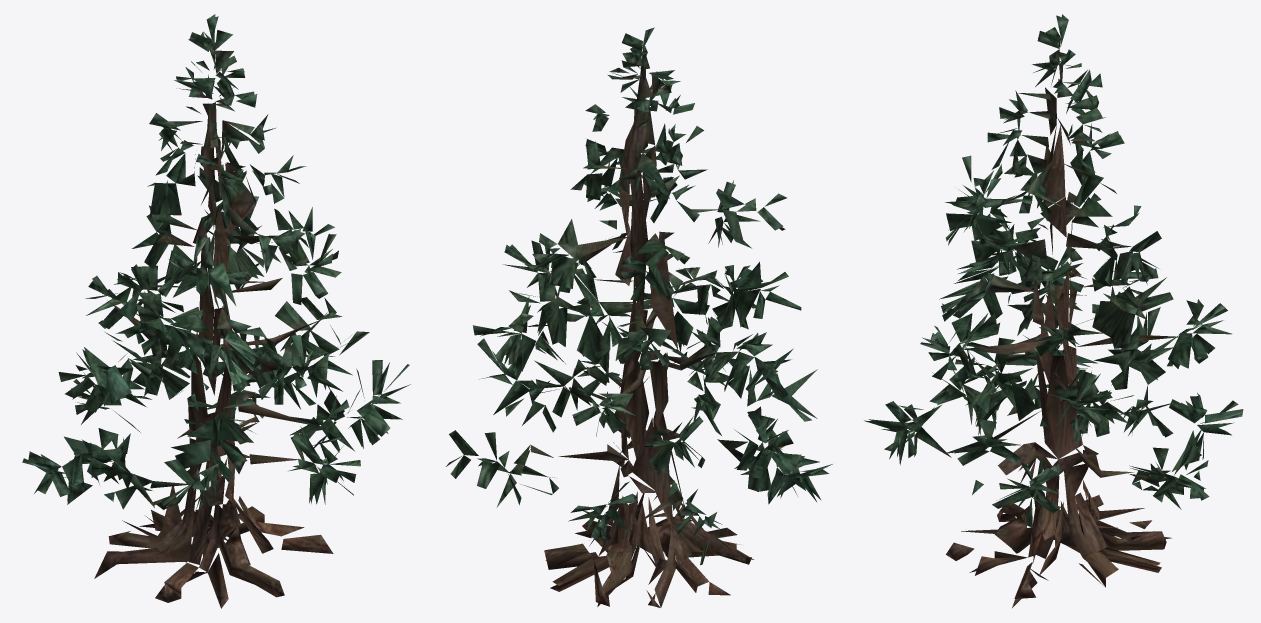
The model's file is tripo-conifera153-lod.glb.
3 renders of one model, left to right at view 1: azimuth 30°, elevation 25°; view 2: azimuth 150°, elevation 25°; view 3: azimuth 270°, elevation 25°, orthographic.
Visible parts, largest first — view 1: tripo_node_503727a7-5fc5-4832-b367-66964798e19f; view 2: tripo_node_503727a7-5fc5-4832-b367-66964798e19f; view 3: tripo_node_503727a7-5fc5-4832-b367-66964798e19f.
Part boxes in pixels (x1,y1,x2,y2): tripo_node_503727a7-5fc5-4832-b367-66964798e19f: [22, 14, 410, 608]; tripo_node_503727a7-5fc5-4832-b367-66964798e19f: [446, 27, 832, 607]; tripo_node_503727a7-5fc5-4832-b367-66964798e19f: [864, 14, 1243, 607].
Size of the model in its own units: 0.6949 by 1.01 by 0.63.
Materials: 1 (1 with a texture image).
